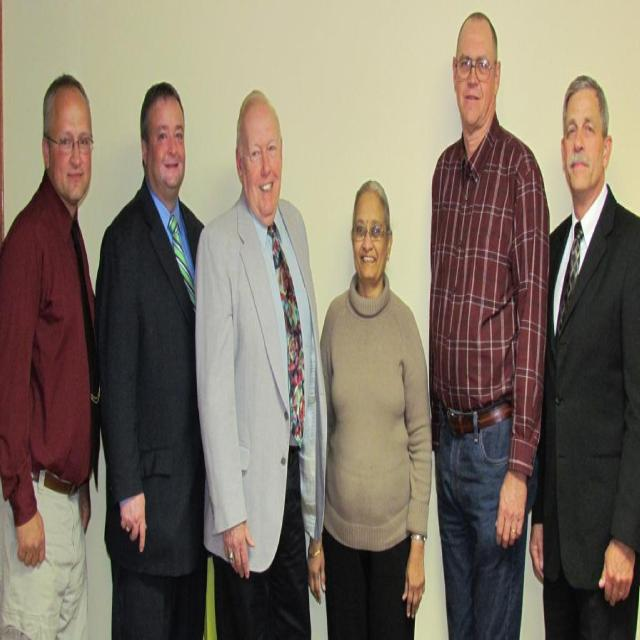Face: (563, 82, 622, 213), (48, 78, 99, 217), (235, 98, 290, 224), (140, 77, 198, 196), (447, 15, 504, 134), (354, 185, 396, 288)
